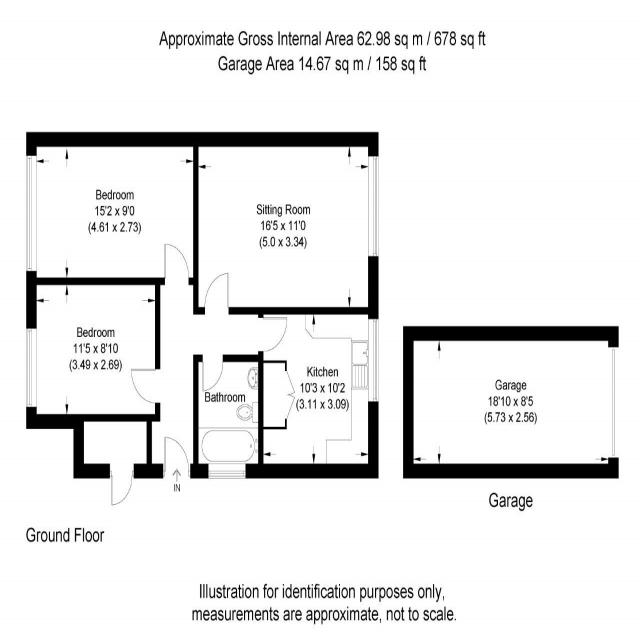DOOR: (162, 435, 192, 479), (163, 243, 190, 286), (130, 367, 160, 405), (204, 272, 230, 315), (258, 316, 288, 353), (201, 354, 224, 393)
ROOM: (193, 131, 379, 315), (26, 131, 199, 286), (258, 307, 379, 479), (26, 278, 161, 429)
WINDOW: (25, 153, 38, 274), (367, 155, 379, 258), (25, 327, 38, 409), (368, 318, 379, 403), (207, 462, 247, 480)
